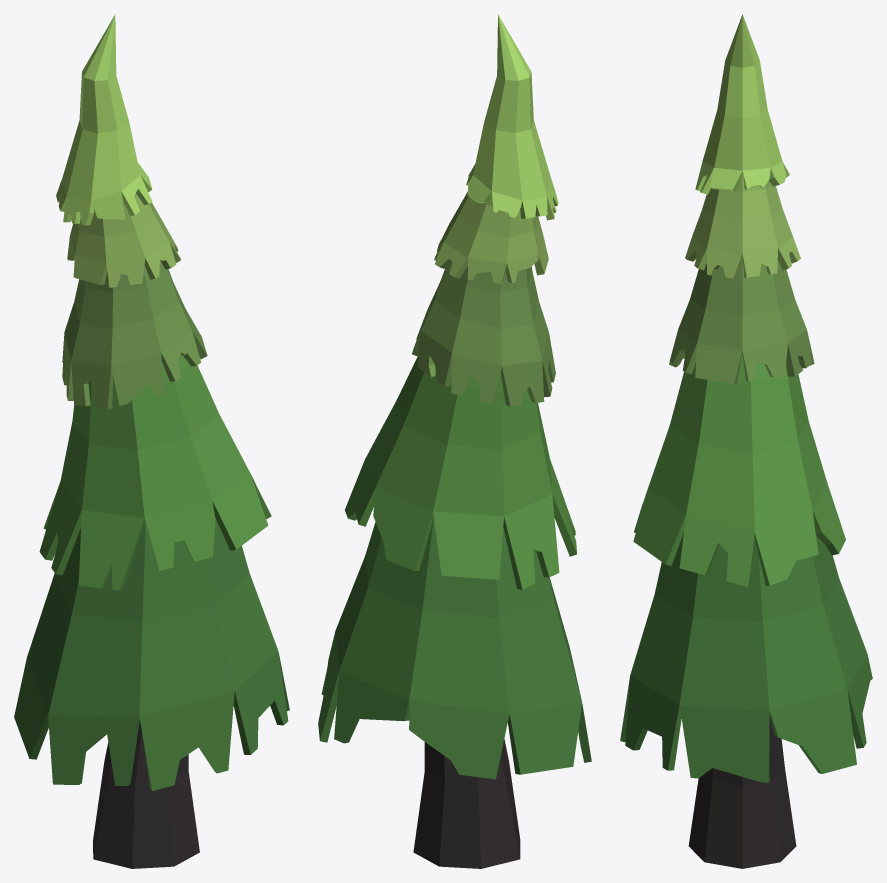
The model's file is 2_2 Pinetree_1.fbx.
3 views of the same model, side by side, from view 1: azimuth 30°, elevation 25°; view 2: azimuth 150°, elevation 25°; view 3: azimuth 270°, elevation 25° (orthographic). The views are drawn at different scales.
Parts seen in each view (by area): view 1: Tree_Pine_full.001; view 2: Tree_Pine_full.001; view 3: Tree_Pine_full.001.
Part boxes in pixels (x1,y1,x2,y2): Tree_Pine_full.001: (14,14,289,868); Tree_Pine_full.001: (318,14,591,868); Tree_Pine_full.001: (620,14,872,868).
Size of the model in its own units: 607 by 1998 by 560.
